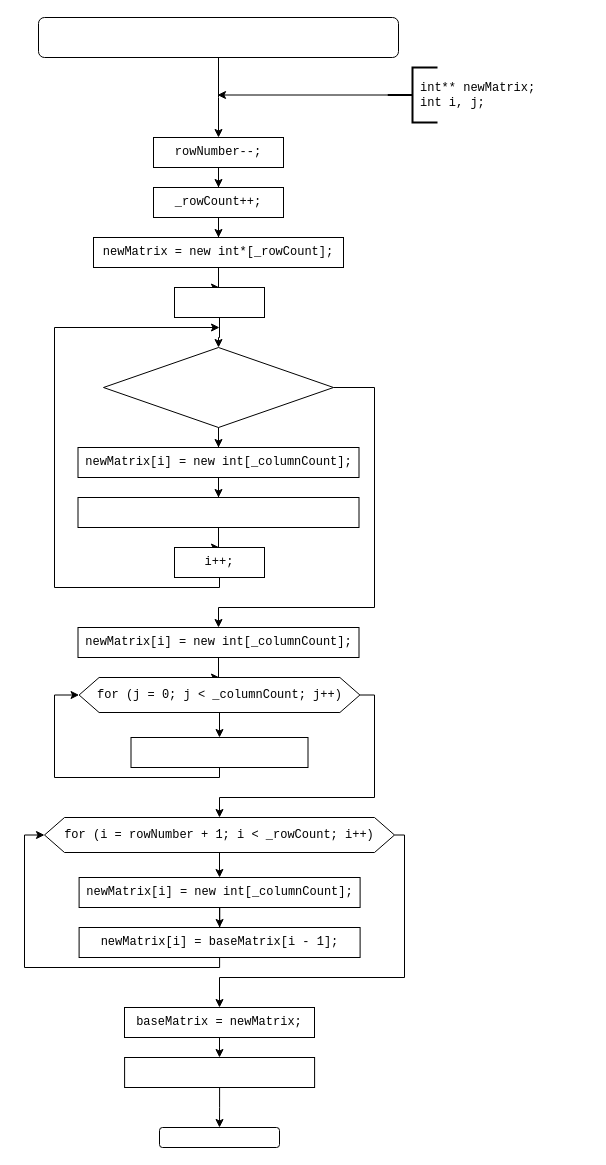
This 606x1165 diagram has some shape labels left out. The centre of each missing label's shape, as x and y in pixels:
"delete[] newMatrix;" belongs at point 219,1072.
"i = 0;" belongs at point 219,302.
"newMatrix[i] = baseMatrix[i];" belongs at point 218,512.
"newMatrix[i][j] = 1;" belongs at point 219,752.
"void AddNewRow(int**& baseMatrix, int rowNumber)" belongs at point 218,37.
"while ((i != rowNumber) && (i < _rowCount))" belongs at point 218,387.
